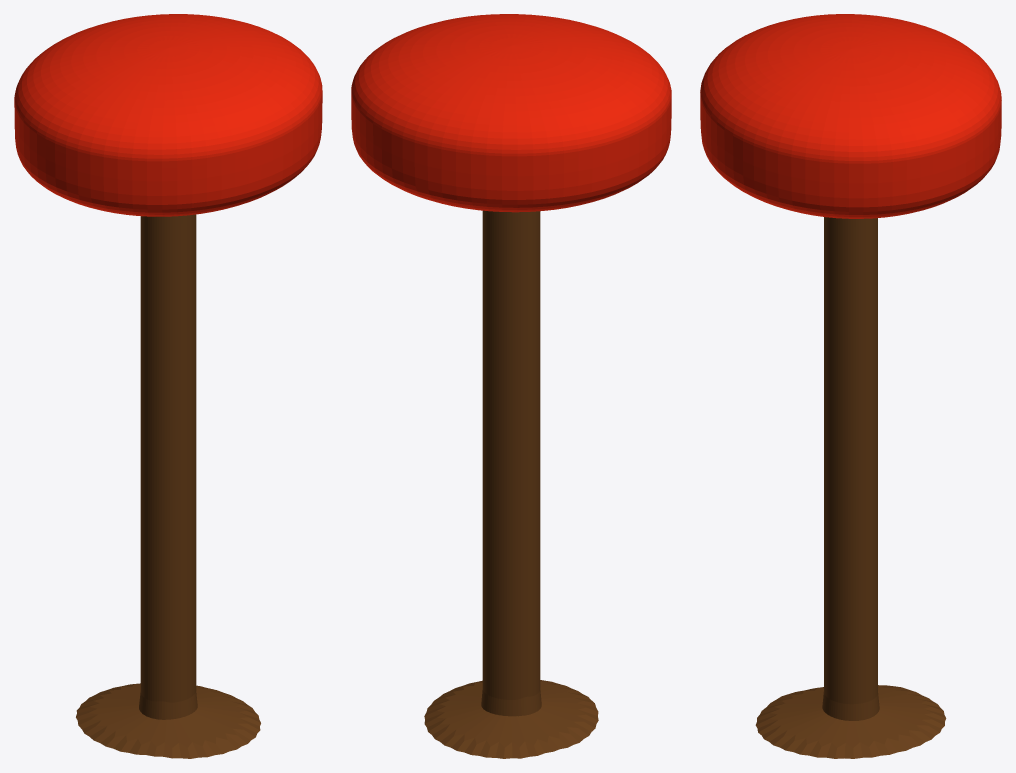
The model's file is Red_Stool.fbx.
3 views of the same model, side by side, from view 1: azimuth 30°, elevation 25°; view 2: azimuth 150°, elevation 25°; view 3: azimuth 270°, elevation 25° (orthographic).
Parts seen in each view (by area): view 1: Sphere.003; view 2: Sphere.003; view 3: Sphere.003.
Part boxes in pixels (box(x1,y1,x2,y2)): Sphere.003: box(14, 14, 322, 758); Sphere.003: box(351, 14, 671, 758); Sphere.003: box(700, 14, 1001, 758).
Bounding box in the file's own units: 10898 × 25538 × 10318.
